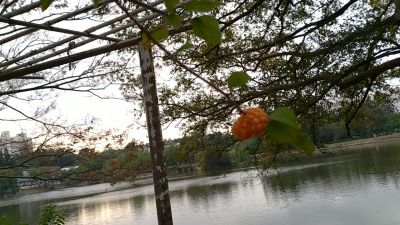eggs: (231, 107, 270, 142)
